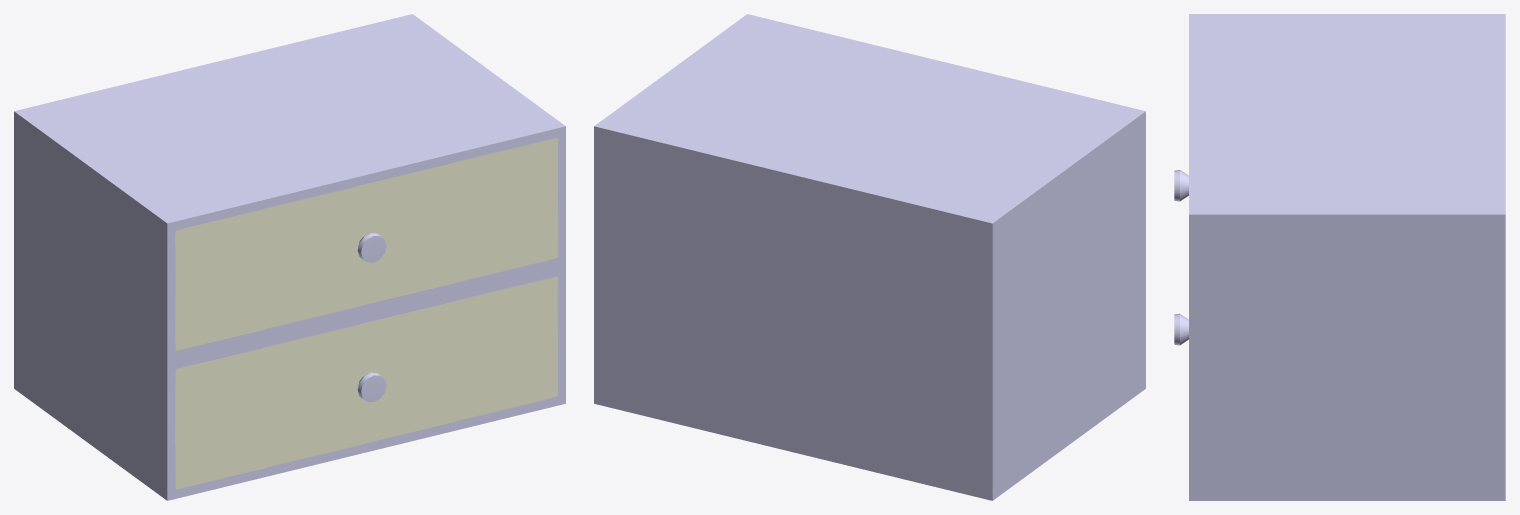
Rendered from drawer_purple.glb.
3 renders of one model, left to right at view 1: azimuth 30°, elevation 25°; view 2: azimuth 150°, elevation 25°; view 3: azimuth 270°, elevation 25°, orthographic. The views are drawn at different scales.
Visible parts, largest first — view 1: Box003; view 2: Box003; view 3: Box003.
Part boxes in pixels (x1,y1,x2,y2): Box003: [14, 14, 565, 500]; Box003: [594, 14, 1145, 500]; Box003: [1174, 14, 1505, 500].
Size of the model in its own units: 0.12 by 0.0798 by 0.0838.
Materials: 1 (1 with a texture image).
